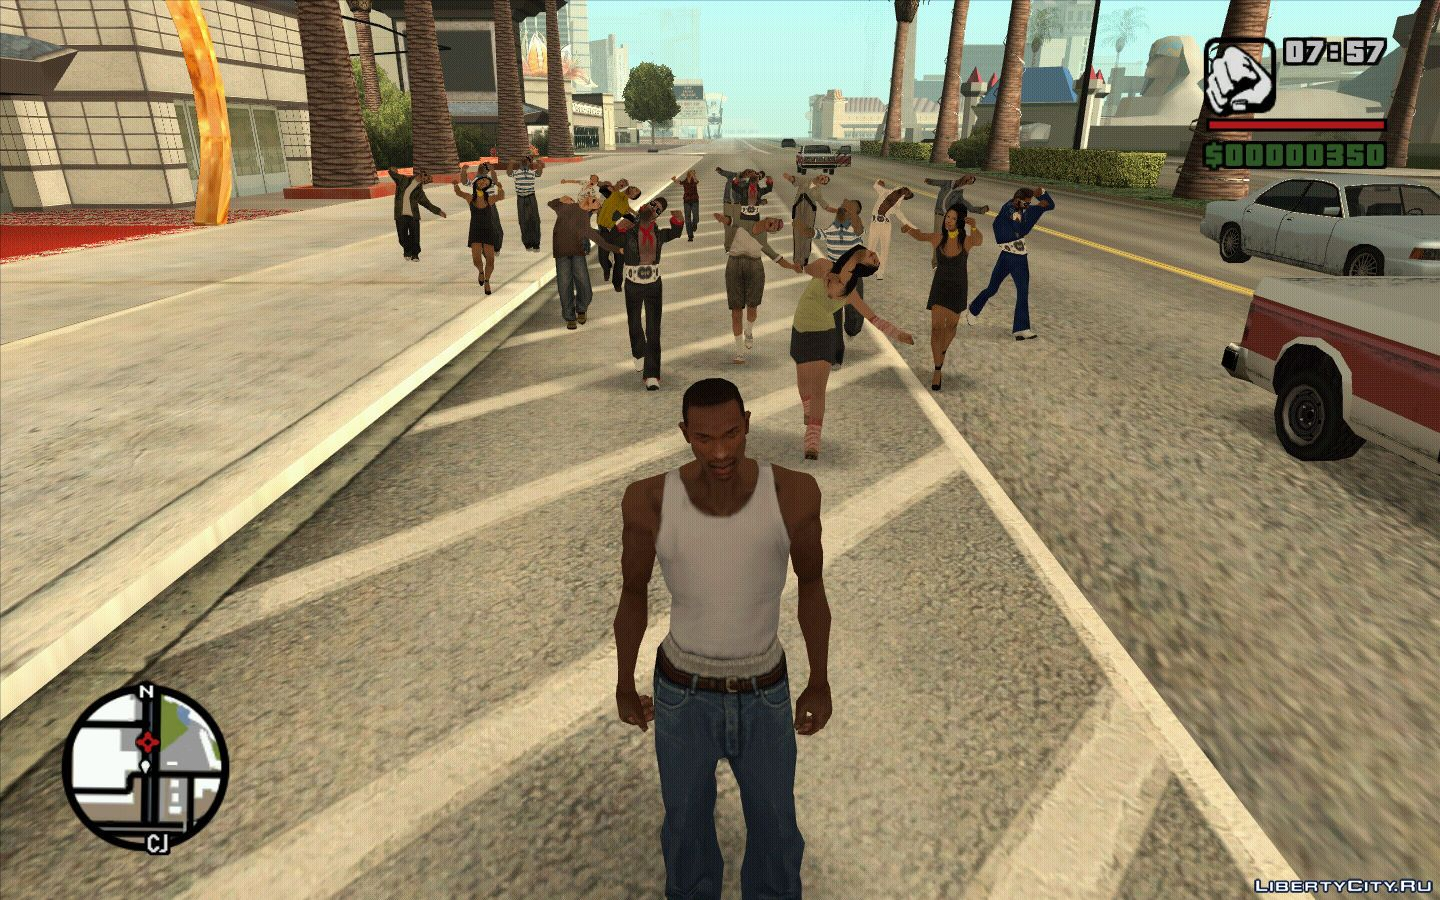person: (616, 435, 839, 895), (792, 252, 865, 473), (991, 186, 1050, 354), (624, 204, 681, 375), (920, 213, 969, 391), (547, 187, 609, 326), (722, 213, 776, 360), (864, 172, 914, 293), (782, 168, 835, 284), (453, 177, 503, 300), (389, 164, 442, 260), (507, 160, 551, 260), (668, 169, 712, 238)
